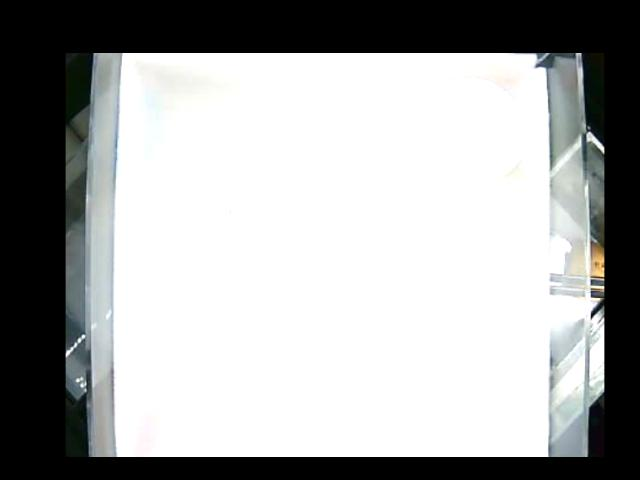Cup: (414, 76, 527, 187)
